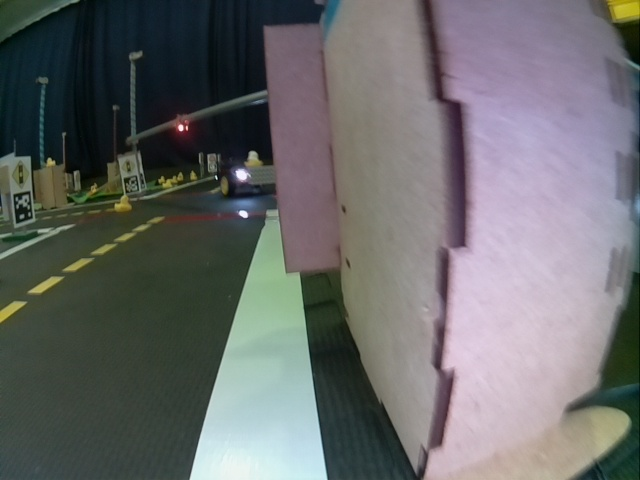Duckie: (115, 196, 132, 211), (244, 150, 261, 165)
Duckiebot: (219, 164, 275, 195)
QR code: (12, 191, 33, 225), (123, 176, 141, 192)
Signal sign: (12, 160, 31, 186), (118, 156, 137, 174)
Traffic light: (177, 116, 187, 130)
